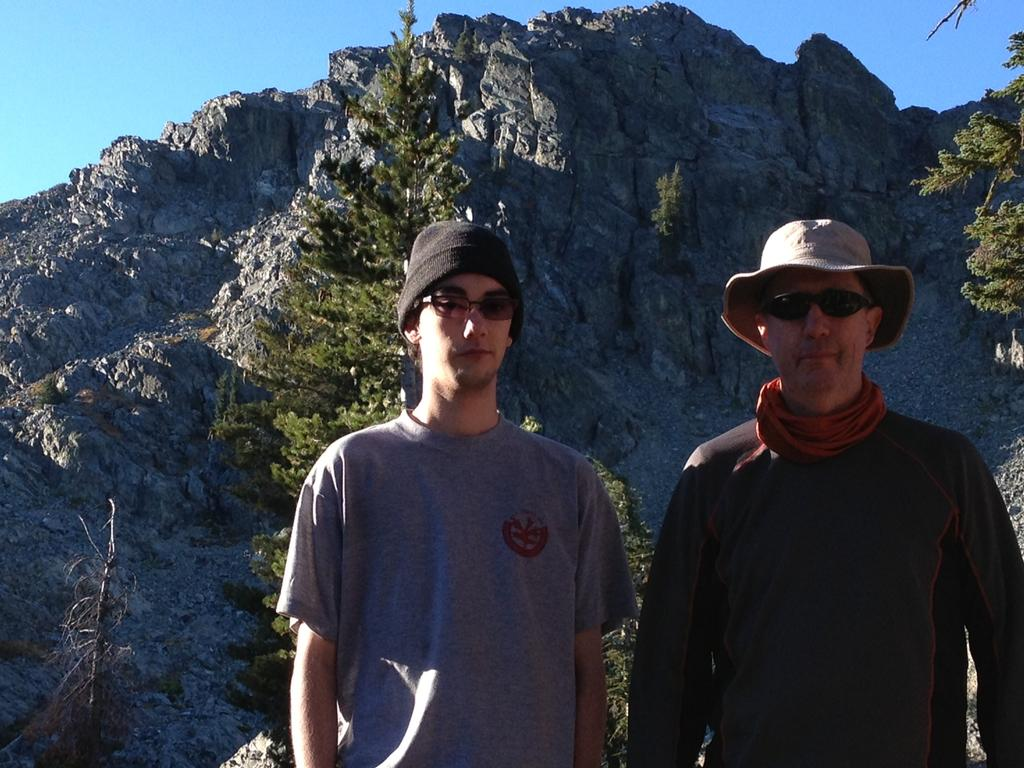Hat: (720, 214, 916, 354)
